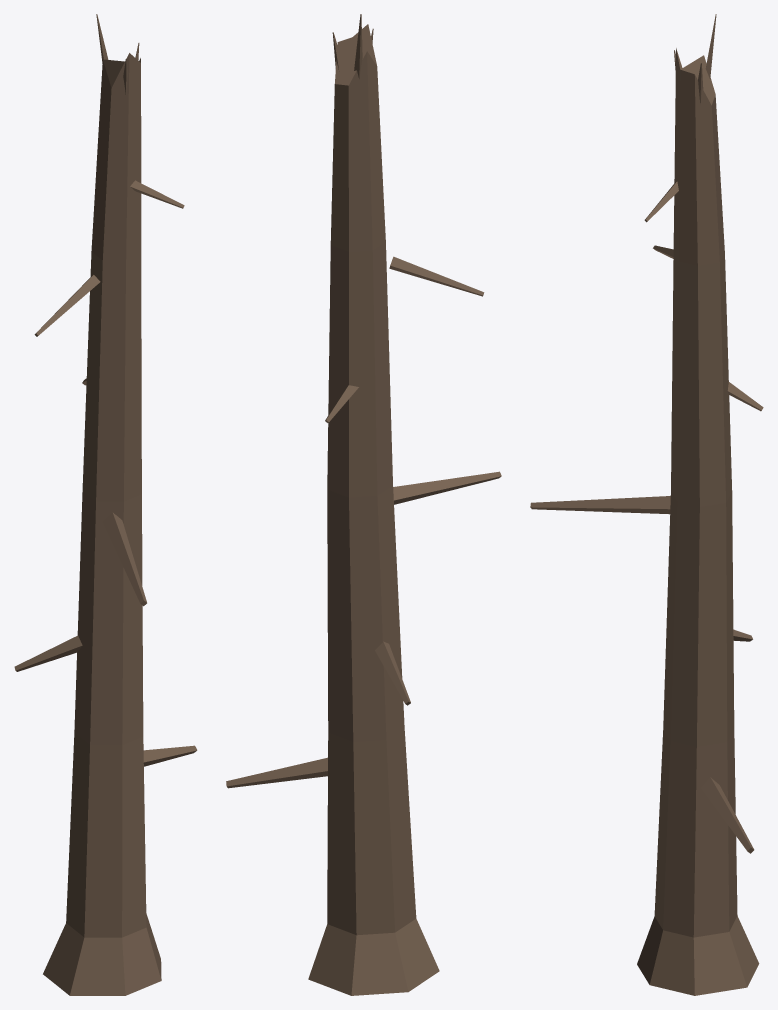
File: tree_snag.glb
3 renders of one model, left to right at view 1: azimuth 30°, elevation 25°; view 2: azimuth 150°, elevation 25°; view 3: azimuth 270°, elevation 25°, orthographic.
Visible parts, largest first — view 1: tree_snag; view 2: tree_snag; view 3: tree_snag.
Part boxes in pixels (x1,y1,x2,y2): tree_snag: (14,14,197,995); tree_snag: (226,14,501,995); tree_snag: (530,14,763,995).
Bounding box in the file's own units: 2.36 × 10.34 × 2.29.
